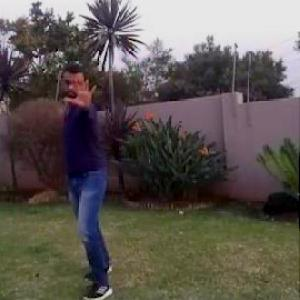follow_hand: (64, 70, 102, 114)
